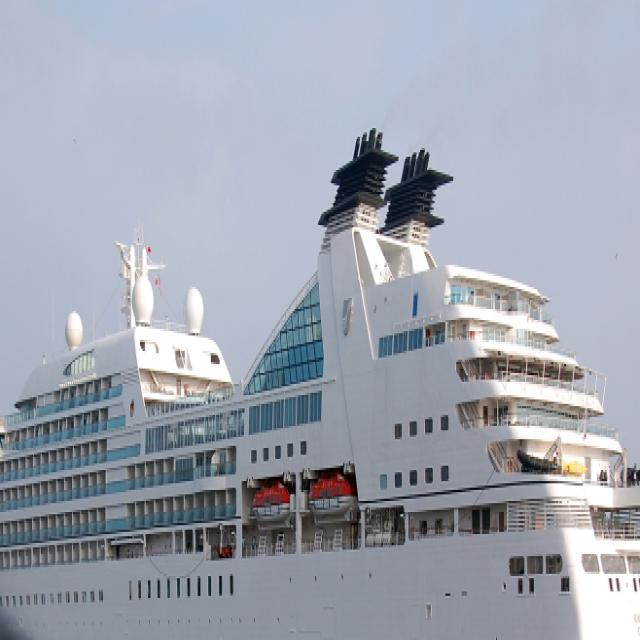cruises: (1, 122, 640, 640)
